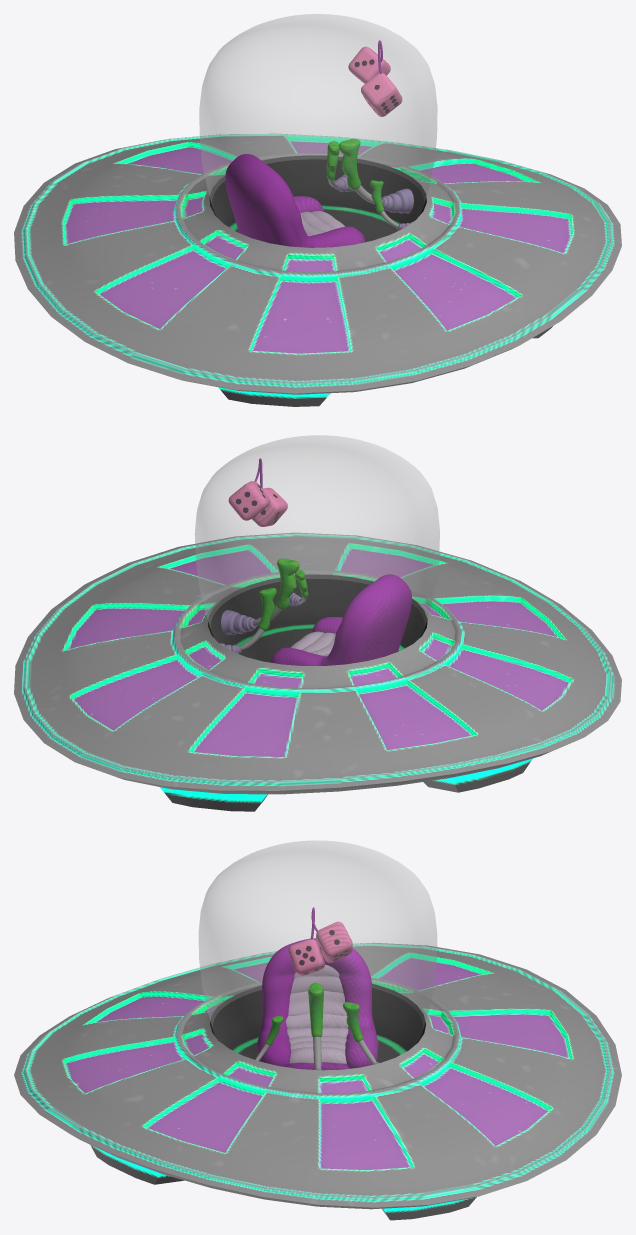
The model's file is ufo.fbx.
The picture shows the model from 3 angles, top to bottom: view 1: azimuth 30°, elevation 25°; view 2: azimuth 150°, elevation 25°; view 3: azimuth 270°, elevation 25°; orthographic projection.
Visible parts, largest first — view 1: 0, 1; view 2: 0, 1; view 3: 0, 1.
Boxes of the visible parts, x1,y1,x2,y2 form: 0: (14,40,621,406); 1: (199,14,437,247); 0: (14,458,621,811); 1: (195,435,439,665); 0: (14,907,621,1220); 1: (199,840,436,1069).
Size of the model in its own units: 5.07 by 2.66 by 5.07.
Materials: 2 (1 with a texture image).
